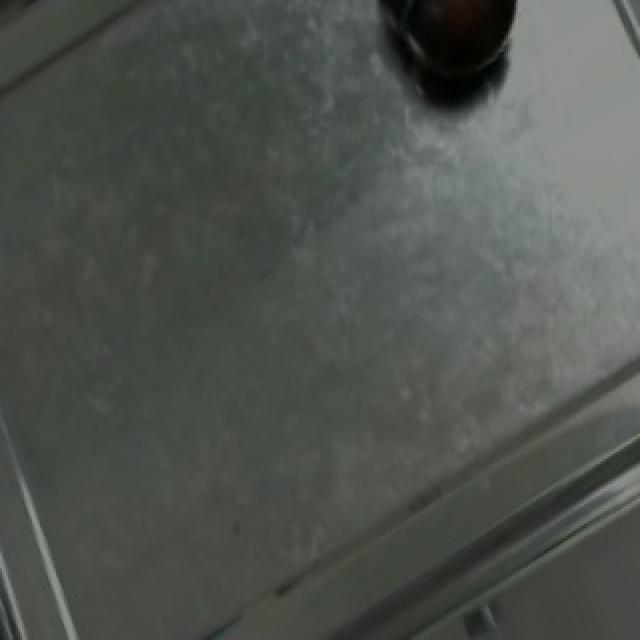Fruit: (390, 0, 536, 112)
